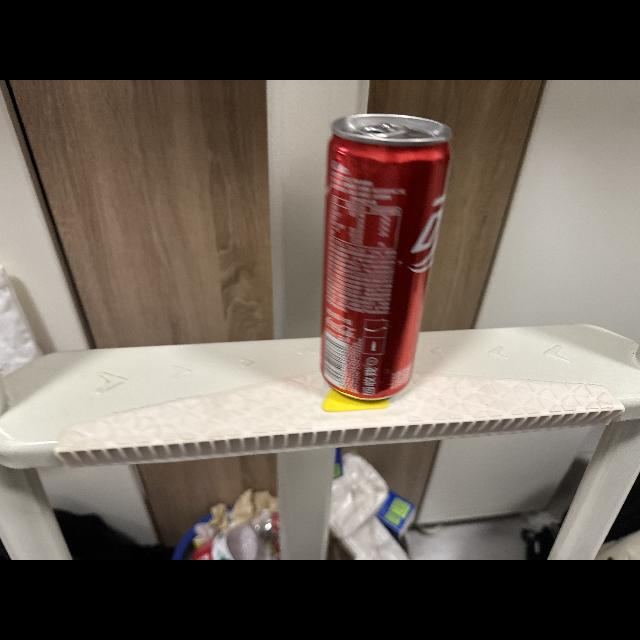Cola: (313, 108, 465, 402)
